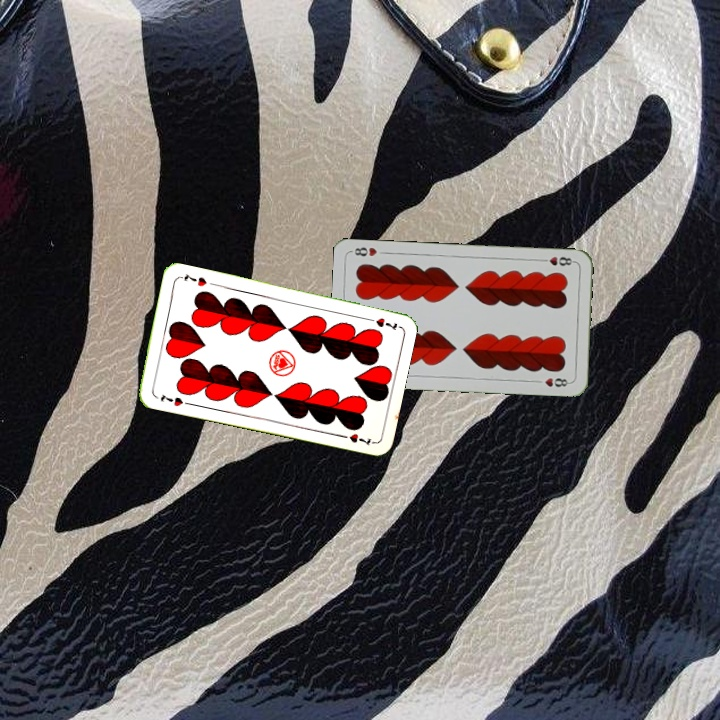H7: (361, 314, 400, 332), (156, 390, 186, 409)
H8: (537, 253, 577, 268)
